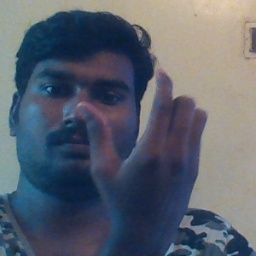U: (70, 55, 211, 207)
